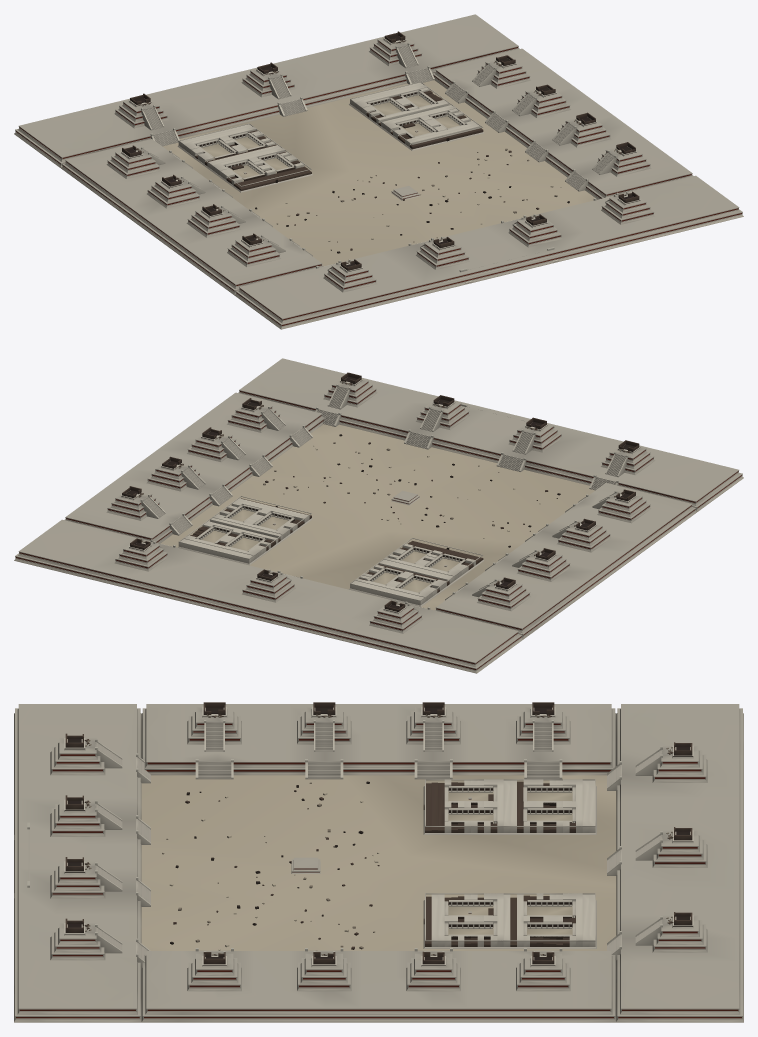
Rendered from ciudadela-650.glb.
3 renders of one model, top to bottom at view 1: azimuth 30°, elevation 25°; view 2: azimuth 150°, elevation 25°; view 3: azimuth 270°, elevation 25°, orthographic. The views are drawn at different scales.
Visible parts, largest first — view 1: p0_platforms, p1_stairs, p2_compounds; view 2: p0_platforms, p1_stairs, p2_compounds; view 3: p0_platforms, p1_stairs, p2_compounds.
Part boxes in pixels (<box>): p0_platforms: <box>14,14,743,329</box>; p1_stairs: <box>106,31,654,292</box>; p2_compounds: <box>177,81,569,253</box>; p0_platforms: <box>14,358,743,673</box>; p1_stairs: <box>106,372,655,633</box>; p2_compounds: <box>177,434,560,606</box>; p0_platforms: <box>14,704,743,1022</box>; p1_stairs: <box>14,702,707,991</box>; p2_compounds: <box>162,779,596,950</box>.
Size of the model in its own units: 400 by 22.72 by 400.
